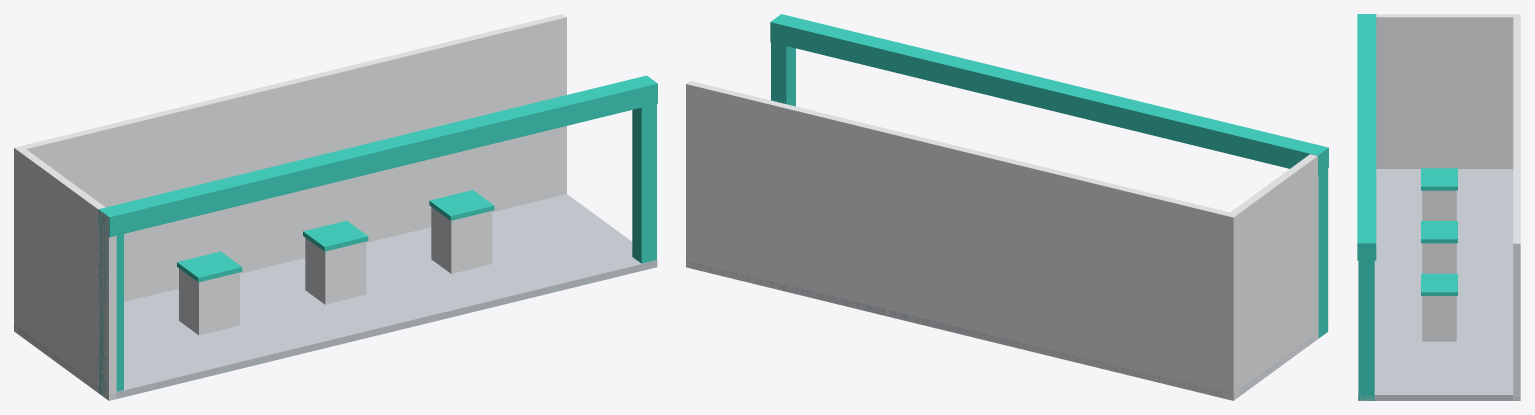
3 renders of one model, left to right at view 1: azimuth 30°, elevation 25°; view 2: azimuth 150°, elevation 25°; view 3: azimuth 270°, elevation 25°, orthographic. The views are drawn at different scales.
Visible parts, largest first — view 1: Exhibition Booth Concept; view 2: Exhibition Booth Concept; view 3: Exhibition Booth Concept.
Part boxes in pixels (x1,y1,x2,y2): Exhibition Booth Concept: [14, 14, 657, 400]; Exhibition Booth Concept: [686, 14, 1328, 400]; Exhibition Booth Concept: [1357, 14, 1520, 400].
Size of the model in its own units: 10 by 3.2 by 3.01.
